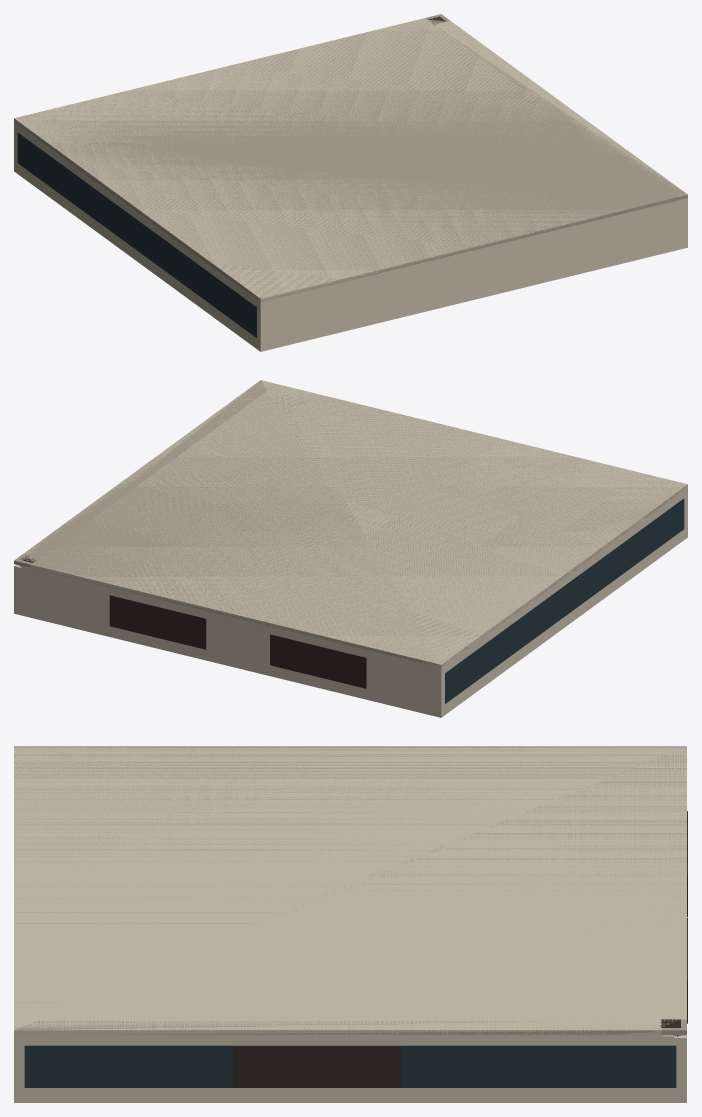
Rendered from tw_deco_32_floor_c_lod1.glb.
The picture shows the model from 3 angles, top to bottom: view 1: azimuth 30°, elevation 25°; view 2: azimuth 150°, elevation 25°; view 3: azimuth 270°, elevation 25°; orthographic projection. The views are drawn at different scales.
Parts seen in each view (by area): view 1: tw_deco_32_floor_c_lod1; view 2: tw_deco_32_floor_c_lod1; view 3: tw_deco_32_floor_c_lod1.
Part boxes in pixels (x1=…): tw_deco_32_floor_c_lod1: x1=14, y1=14, x2=687, y2=351; tw_deco_32_floor_c_lod1: x1=14, y1=380, x2=687, y2=717; tw_deco_32_floor_c_lod1: x1=14, y1=746, x2=687, y2=1102.
Size of the model in its own units: 32.07 by 3.8 by 32.05.
1 material, 1 textured.
